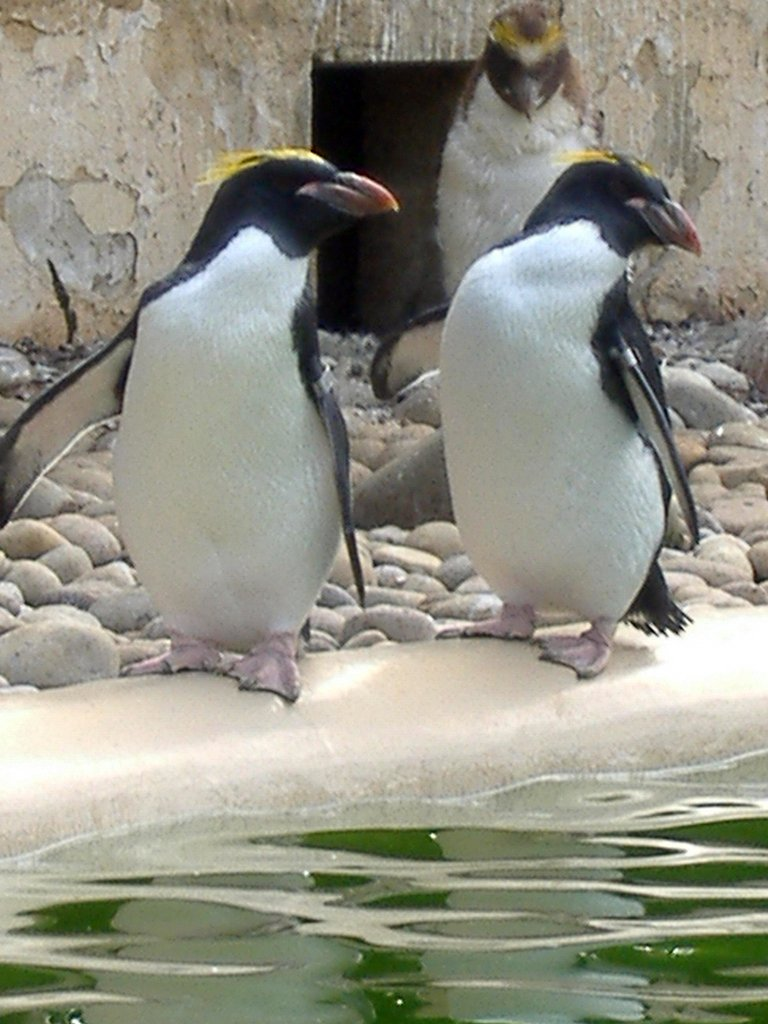penguin: (5, 142, 402, 717), (390, 154, 715, 683)
